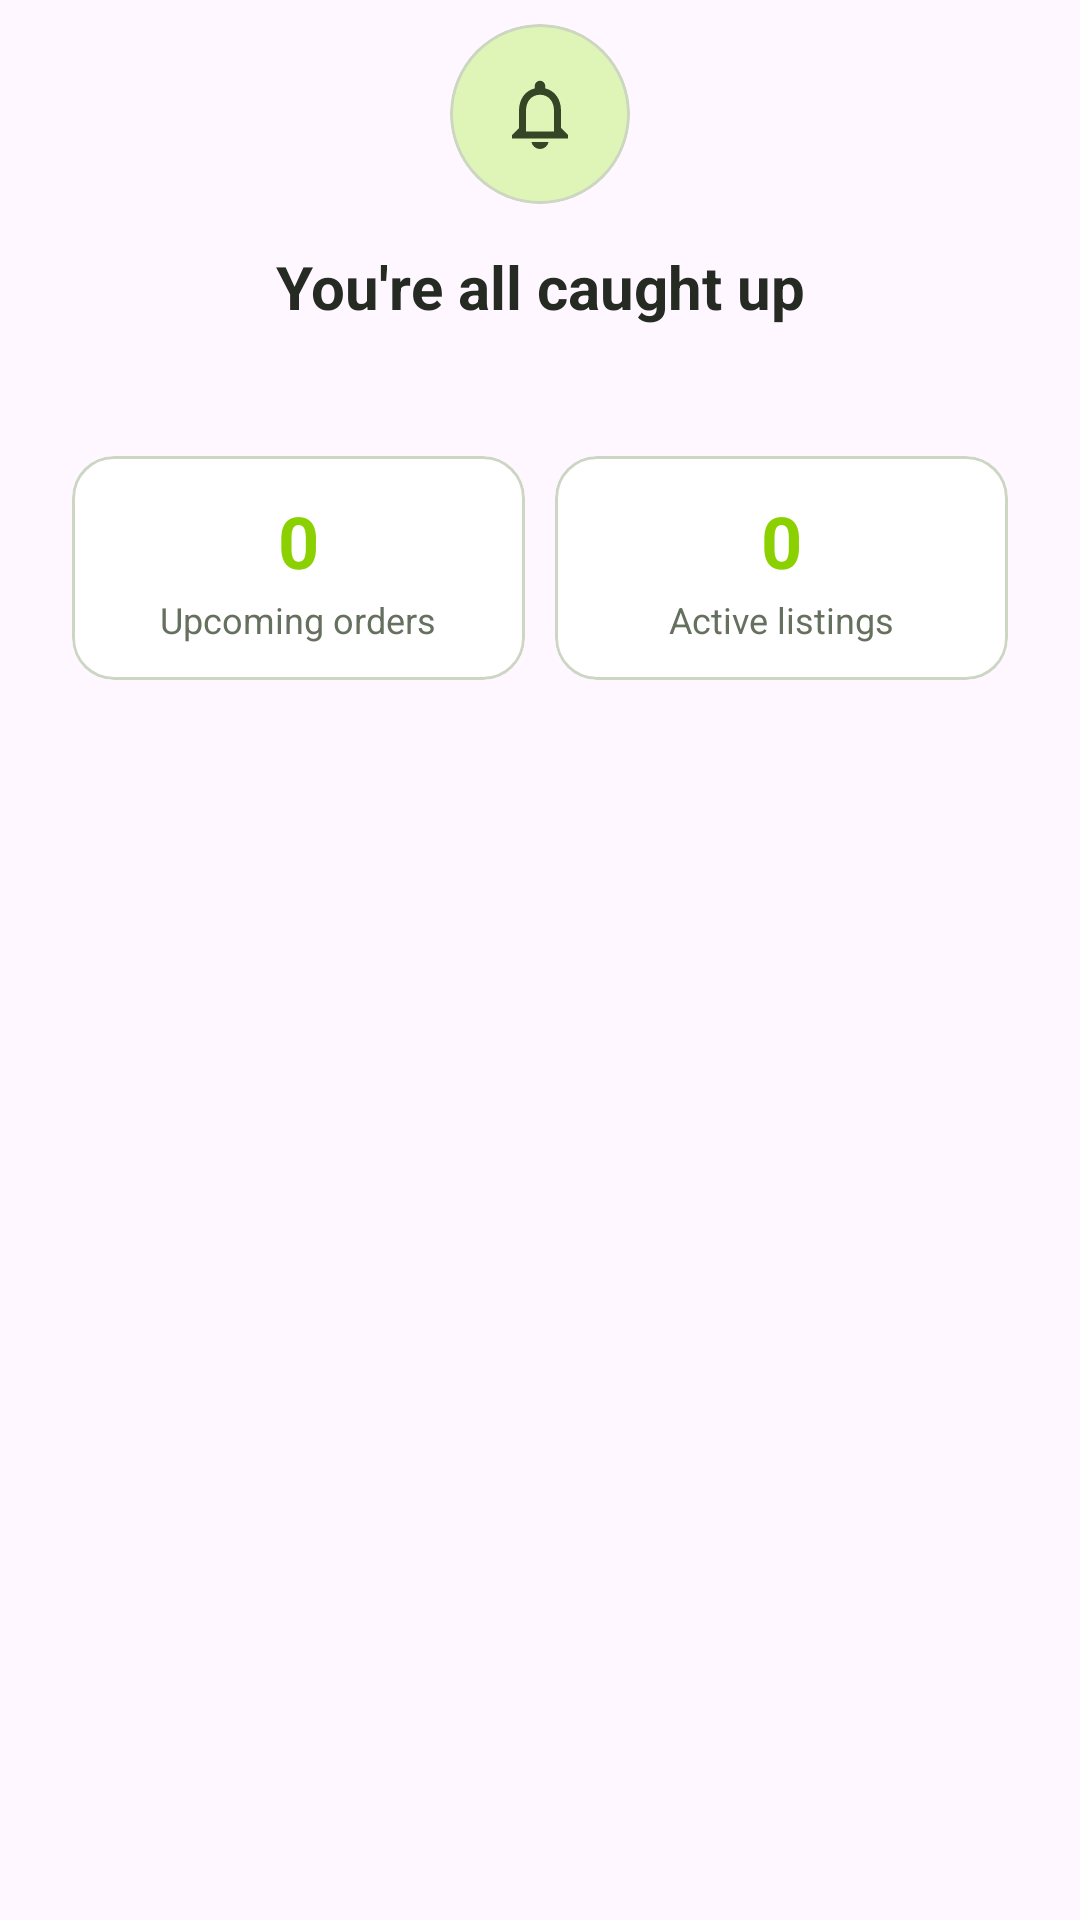

Locate icon controls on the screen. Image size 1080px x 1920px, boxes as {"x1": x1, "y1": y1, "x2": x2, "y2": y2}.
Notifications: {"x1": 450, "y1": 24, "x2": 630, "y2": 204}
